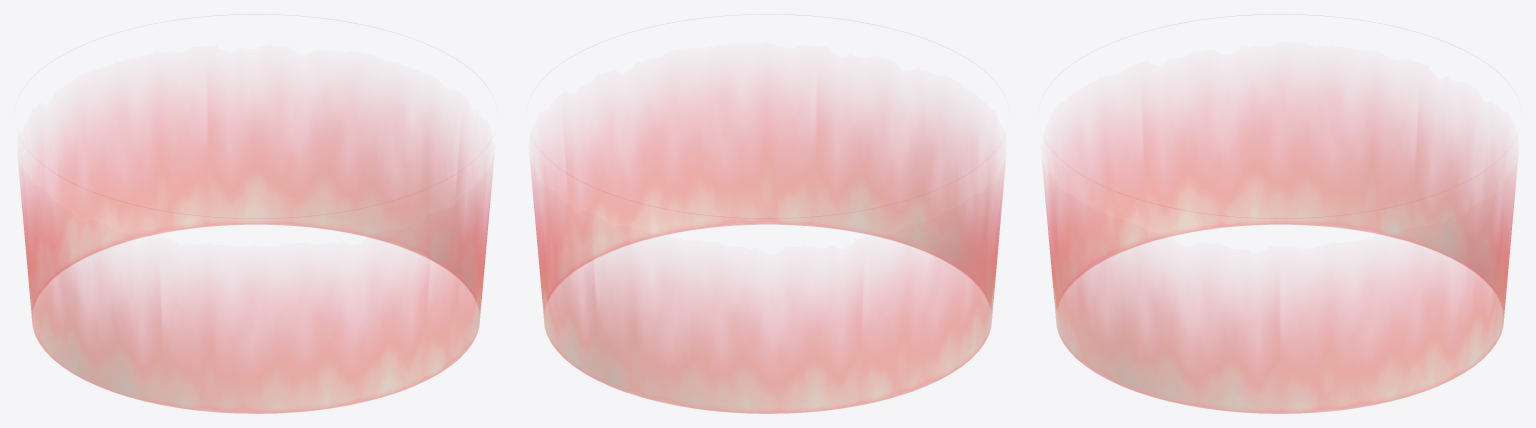
The model's file is shock_wall_crimson.glb.
3 renders of one model, left to right at view 1: azimuth 30°, elevation 25°; view 2: azimuth 150°, elevation 25°; view 3: azimuth 270°, elevation 25°, orthographic.
Parts seen in each view (by area): view 1: wall; view 2: wall; view 3: wall.
Part boxes in pixels (box(x1,y1,x2,y2)): wall: box(19, 14, 492, 413); wall: box(531, 15, 1003, 413); wall: box(1044, 14, 1516, 413).
Size of the model in its own units: 2.16 by 1 by 2.16.
Materials: 1 (1 with a texture image).
